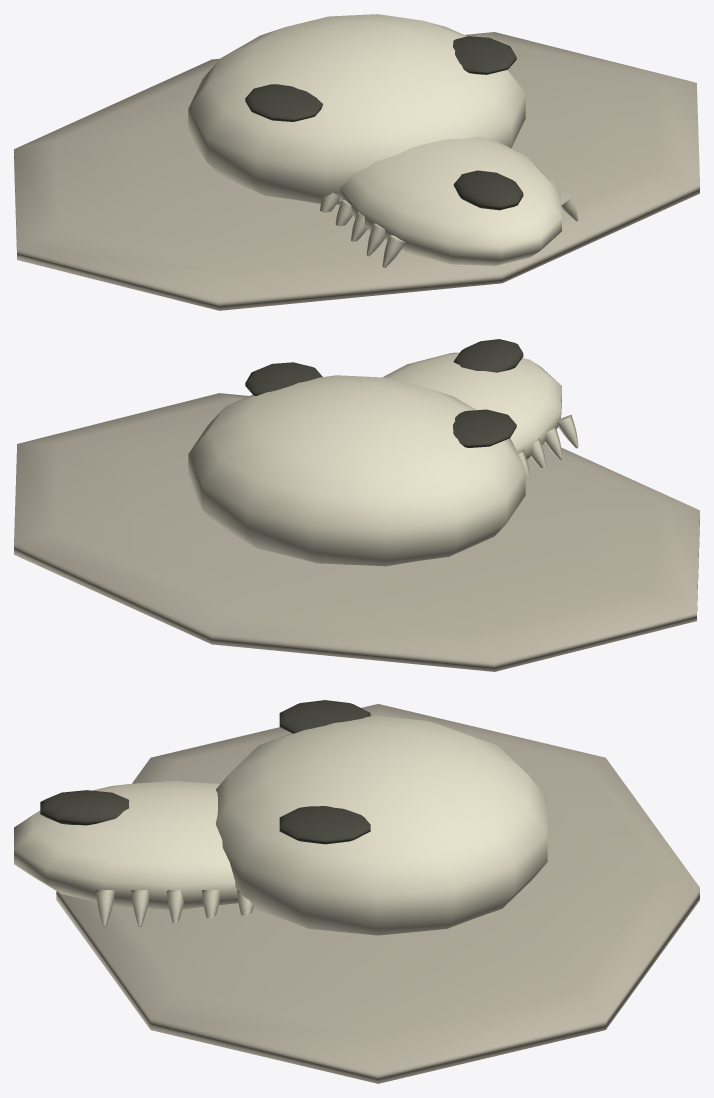
File: dinosaurs-and-prehistoric-life-exposed-skull-fossil-in-f3cb4839__4925.glb
The picture shows the model from 3 angles, top to bottom: view 1: azimuth 30°, elevation 25°; view 2: azimuth 150°, elevation 25°; view 3: azimuth 270°, elevation 25°; orthographic projection. The views are drawn at different scales.
Parts seen in each view (by area): view 1: exposed-skull-fossil-in-rock; view 2: exposed-skull-fossil-in-rock; view 3: exposed-skull-fossil-in-rock.
Part boxes in pixels (x1,y1,x2,y2): exposed-skull-fossil-in-rock: [14, 14, 699, 310]; exposed-skull-fossil-in-rock: [14, 339, 699, 671]; exposed-skull-fossil-in-rock: [14, 700, 699, 1083].
Size of the model in its own units: 1.27 by 0.2897 by 1.
